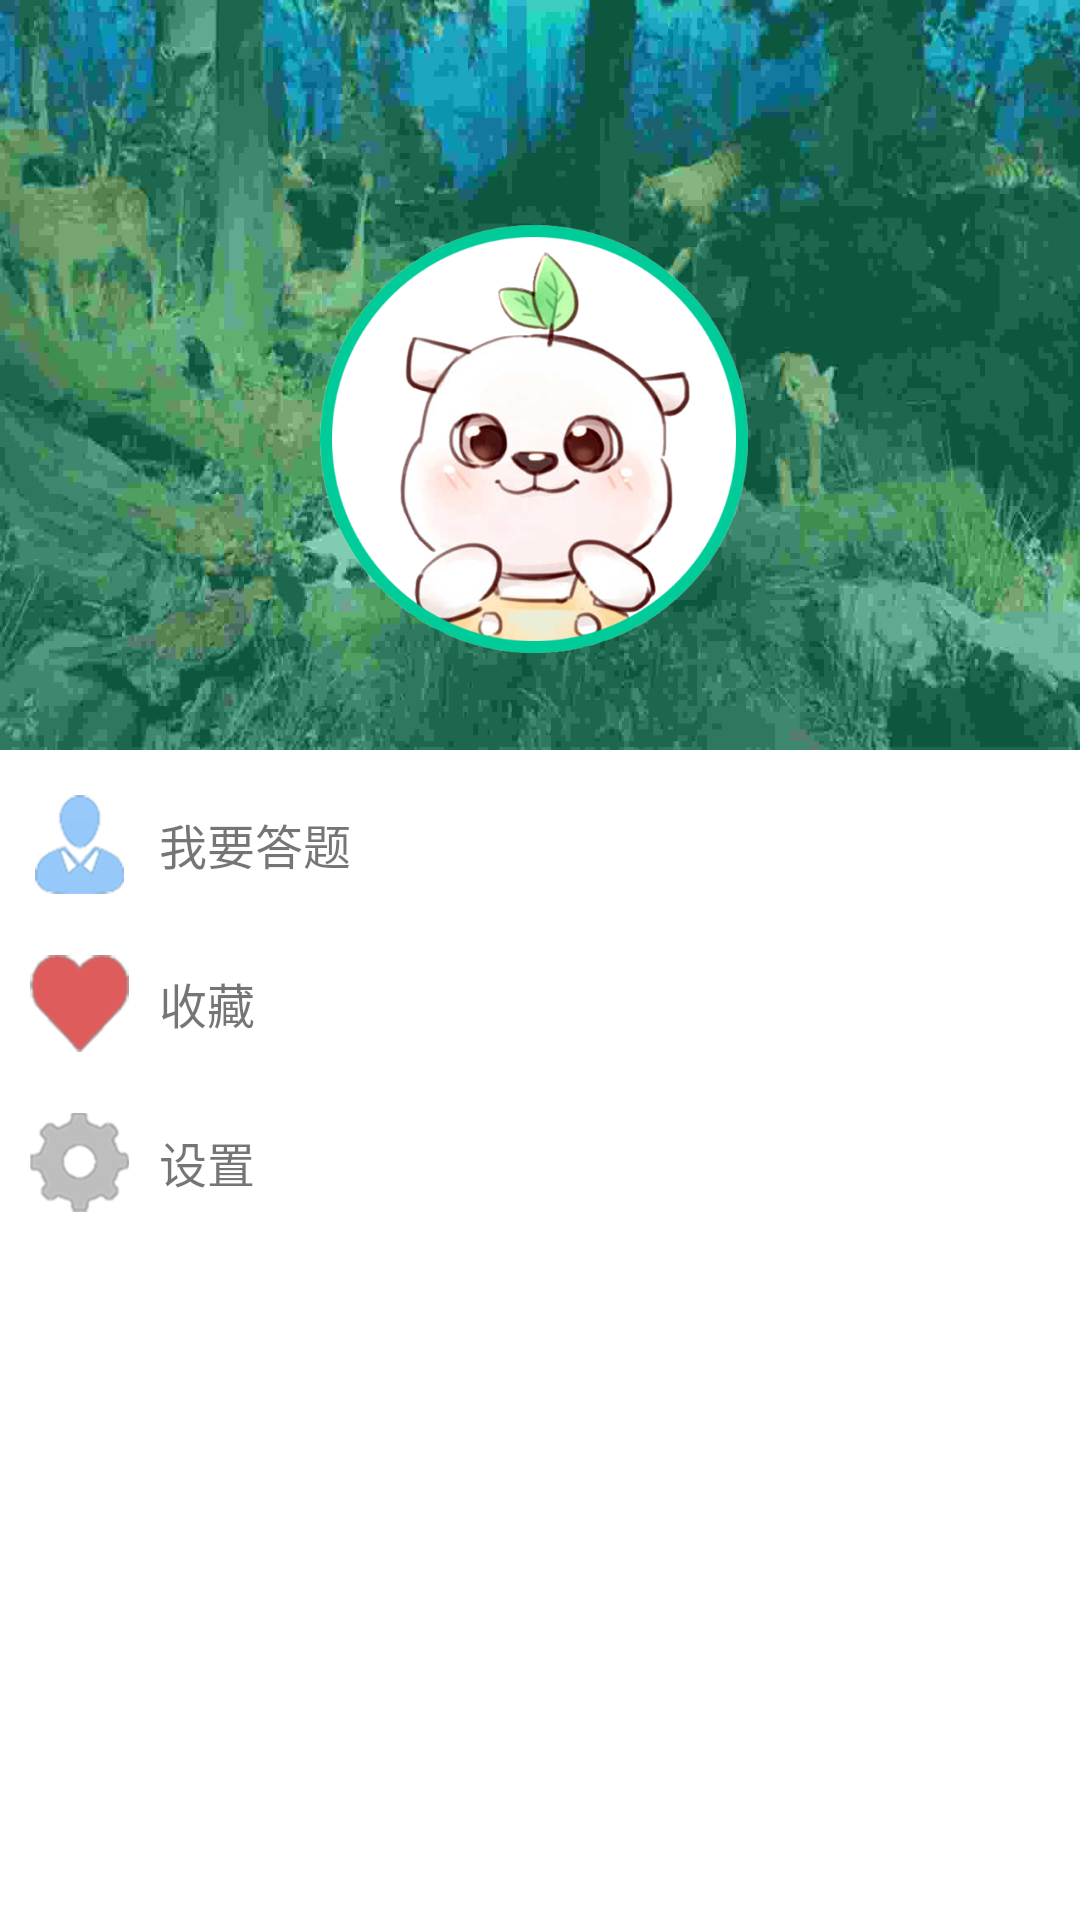

Icons on this 1080 x 1920 Android screen, each with its box as (x1, y1, x2, y2):
setting: (30, 1113, 129, 1212)
